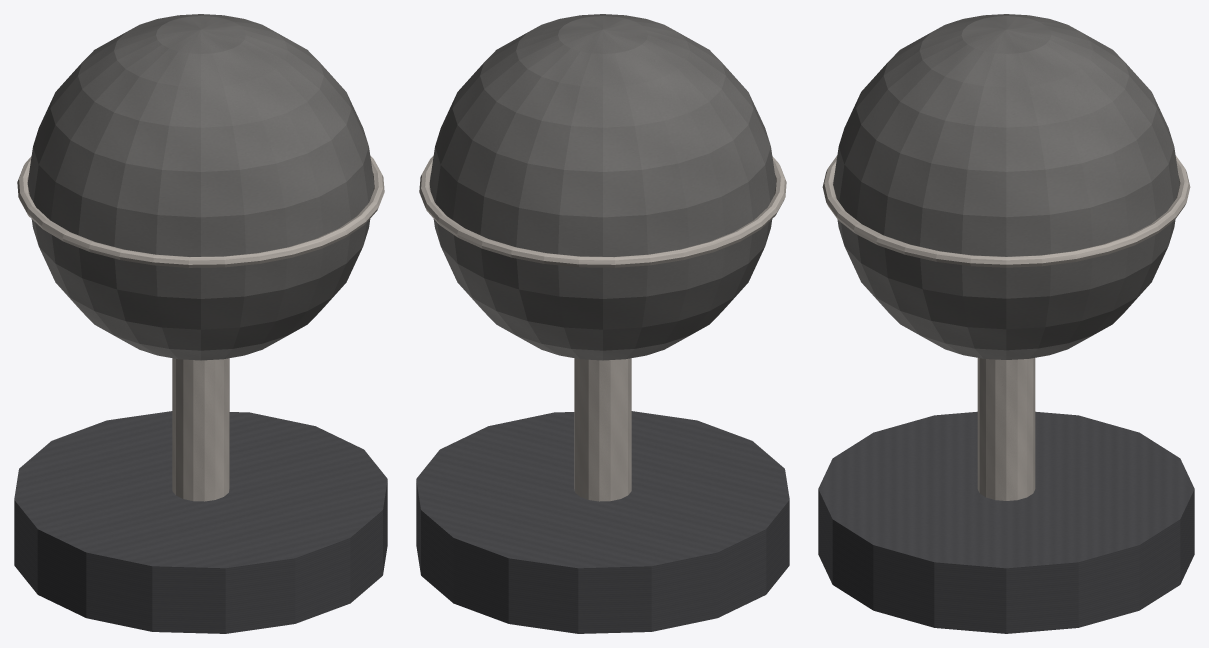
File: table_globe.glb
3 renders of one model, left to right at view 1: azimuth 30°, elevation 25°; view 2: azimuth 150°, elevation 25°; view 3: azimuth 270°, elevation 25°, orthographic.
Visible parts, largest first — view 1: planet_sphere, base.020, stand.002, equator_ring; view 2: planet_sphere, base.020, stand.002, equator_ring; view 3: planet_sphere, base.020, stand.002, equator_ring.
Part boxes in pixels (x1=…): planet_sphere: x1=27, y1=14, x2=374, y2=360; base.020: x1=14, y1=411, x2=387, y2=633; stand.002: x1=172, y1=358, x2=229, y2=501; equator_ring: x1=17, y1=156, x2=384, y2=267; planet_sphere: x1=429, y1=14, x2=776, y2=360; base.020: x1=416, y1=411, x2=789, y2=633; stand.002: x1=574, y1=358, x2=631, y2=501; equator_ring: x1=419, y1=156, x2=786, y2=267; planet_sphere: x1=833, y1=14, x2=1179, y2=359; base.020: x1=818, y1=411, x2=1194, y2=633; stand.002: x1=977, y1=358, x2=1035, y2=500; equator_ring: x1=822, y1=155, x2=1190, y2=267.
Size of the model in its own units: 0.26 by 0.4 by 0.26.
3 materials, 3 textured.
